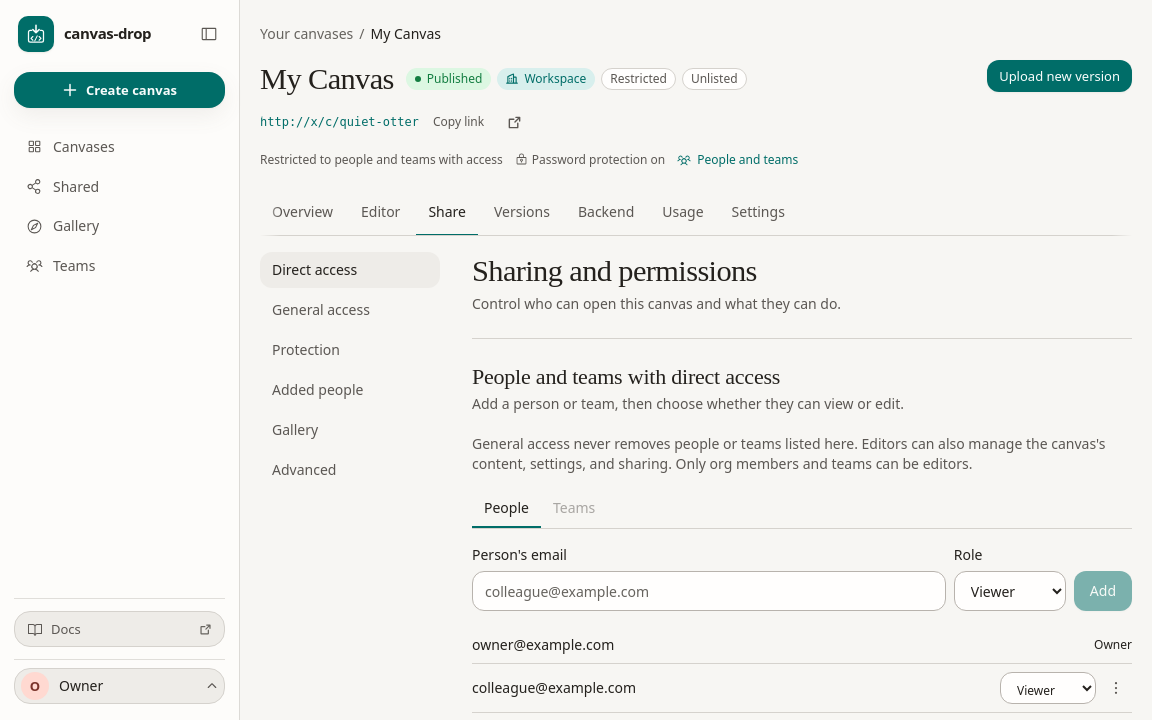
it: share route — roles and ownership (editor-roles plan U6) › invalidates the parent access mirror when a post-mutation list refresh fails
Select "Editor" in the dropdown named "Role for colleague@example.com" at (1048, 688), box [1000,672,1096,704]
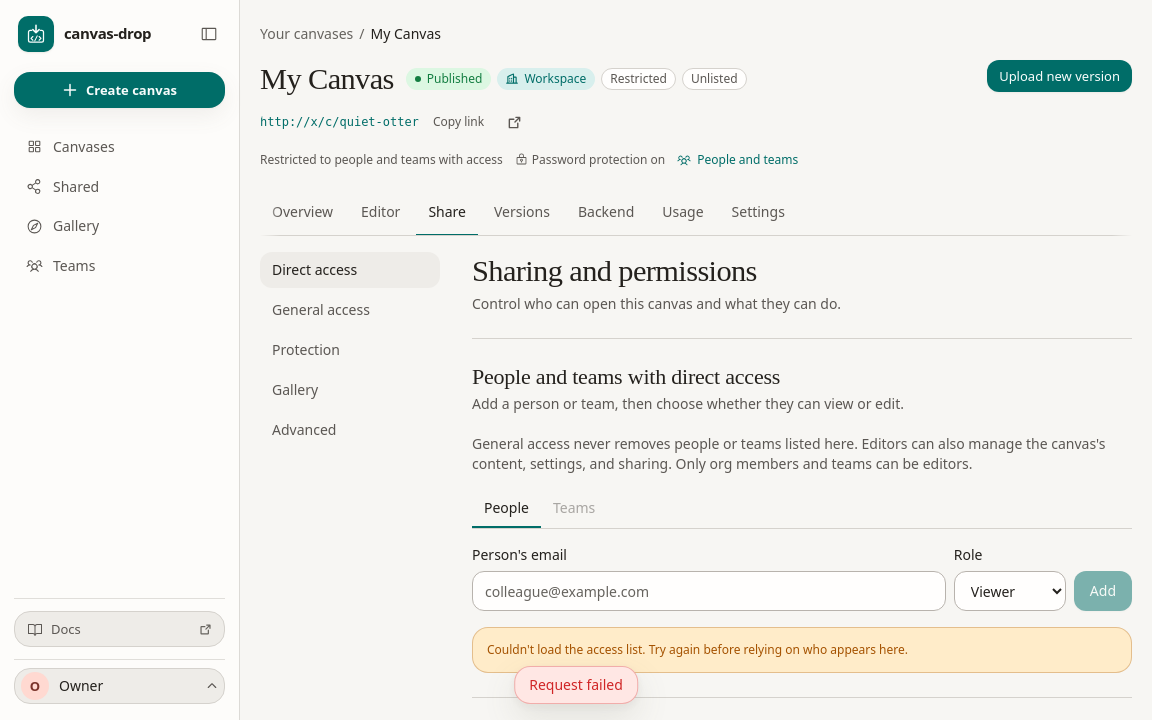
Now the text "Try again before relying on who appears here" is shown, box [487,641,908,658]
